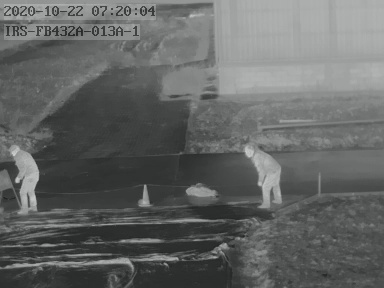person: (244, 143, 282, 209), (10, 145, 38, 214)
